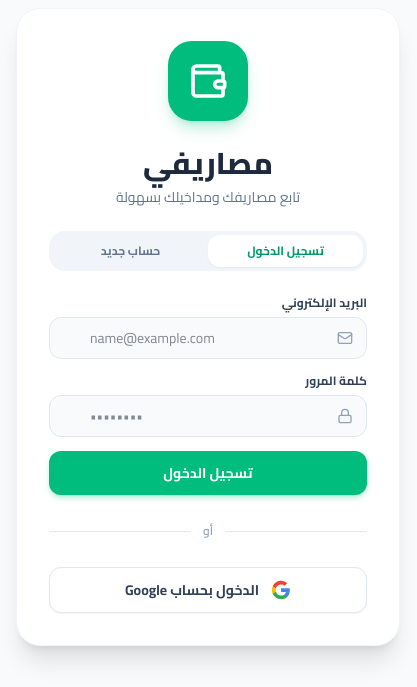
LoginPage Component › switches between login and signup modes
Expected: the field labelled "الاسم الكامل" is not shown
Switch to signup mode
Click the tab "حساب جديد". click: (130, 251)
box: [53,235,208,267]
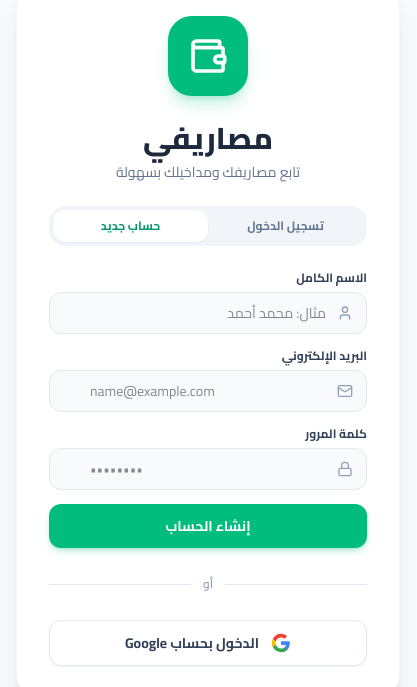
Expected: the field labelled "الاسم الكامل" is shown, [49,292,367,334]
Expected: the button "إنشاء الحساب" is shown, [49,504,367,548]
